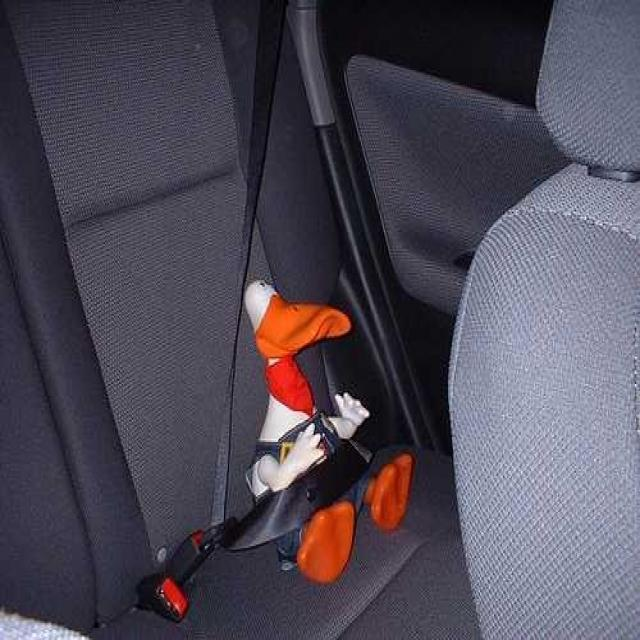seatbelt: (190, 8, 394, 540)
